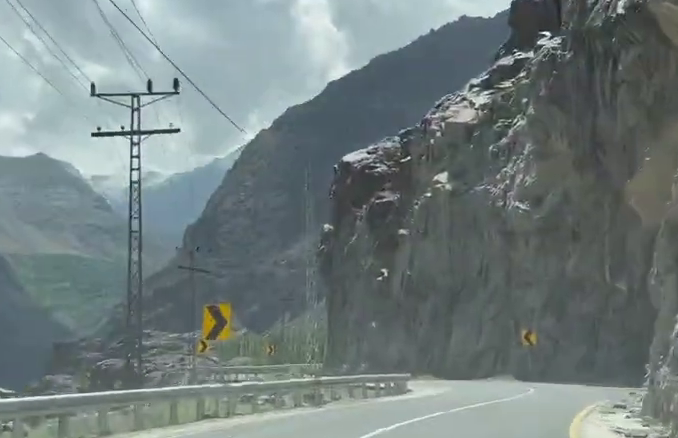right: (389, 297, 614, 422)
